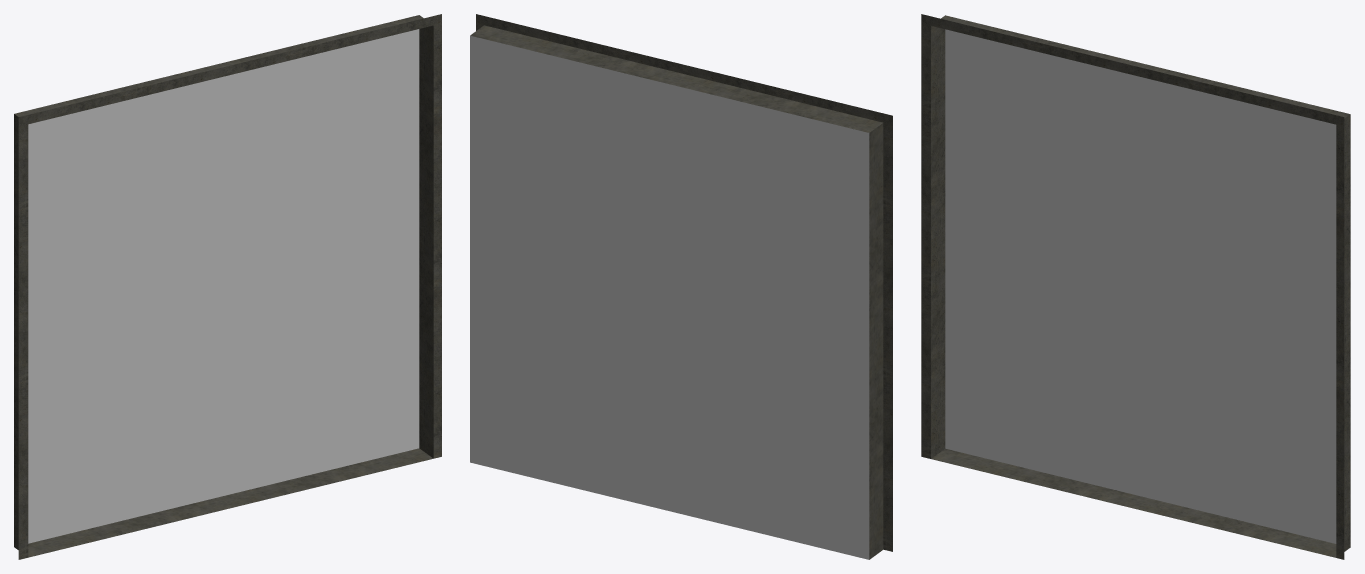
The model's file is CT_door_12.fbx.
3 renders of one model, left to right at view 1: azimuth 30°, elevation 25°; view 2: azimuth 150°, elevation 25°; view 3: azimuth 330°, elevation 25°, orthographic.
Parts seen in each view (by area): view 1: CT_door_12; view 2: CT_door_12; view 3: CT_door_12.
Part boxes in pixels (x1,y1,x2,y2): CT_door_12: [14, 14, 441, 559]; CT_door_12: [470, 14, 892, 559]; CT_door_12: [921, 14, 1350, 559].
Size of the model in its own units: 256 by 256 by 15.
